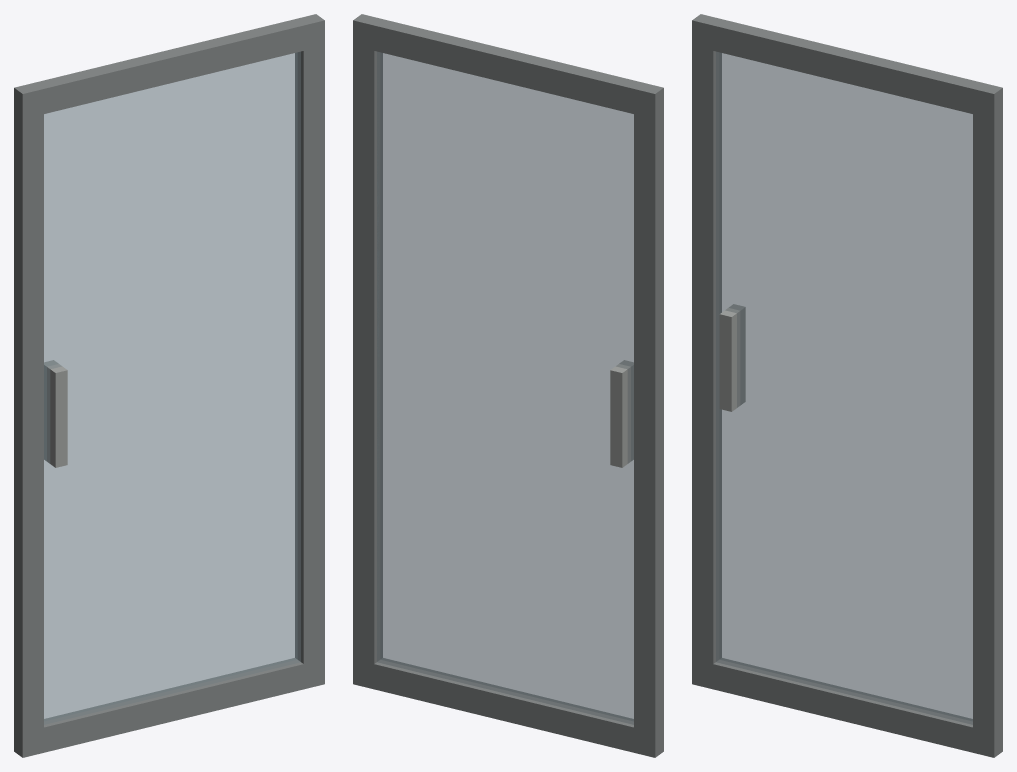
The model's file is door_glass.glb.
3 renders of one model, left to right at view 1: azimuth 30°, elevation 25°; view 2: azimuth 150°, elevation 25°; view 3: azimuth 330°, elevation 25°, orthographic.
Visible parts, largest first — view 1: anim_door_L; view 2: anim_door_L; view 3: anim_door_L.
Boxes of the visible parts, x1,y1,x2,y2 form: anim_door_L: [14, 14, 324, 757]; anim_door_L: [353, 14, 663, 757]; anim_door_L: [692, 14, 1002, 757].
Bounding box in the file's own units: 1 × 2.1 × 0.08.
